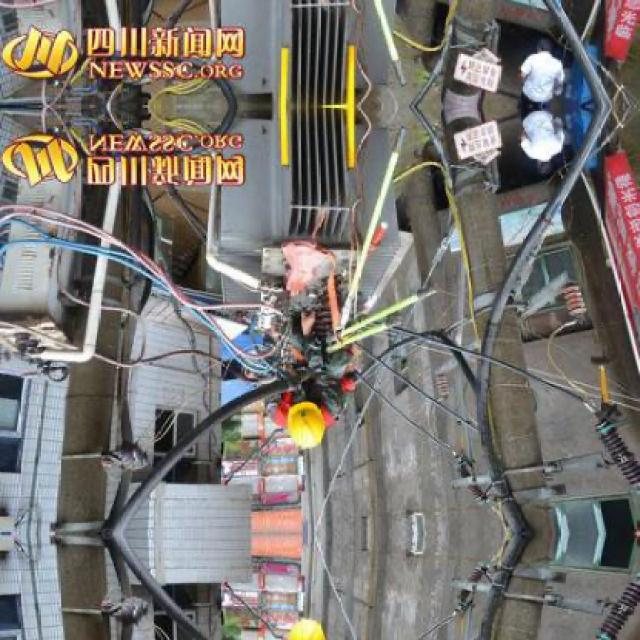con casco: (233, 367, 355, 458)
